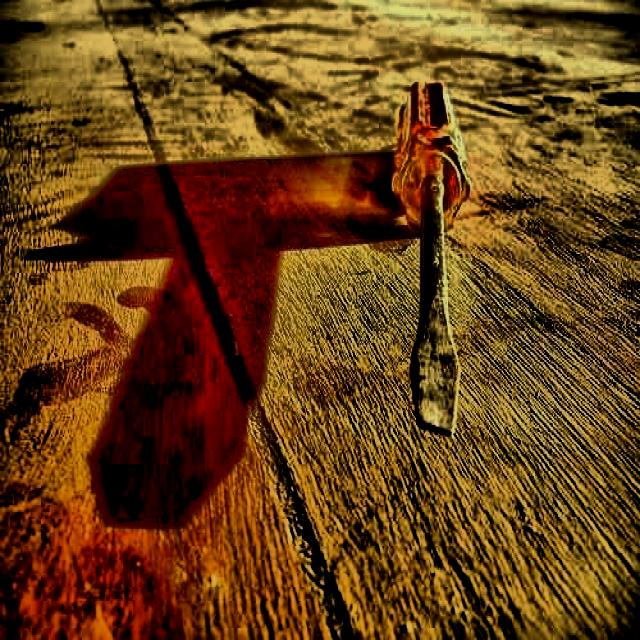screwdriver: (394, 76, 472, 438)
